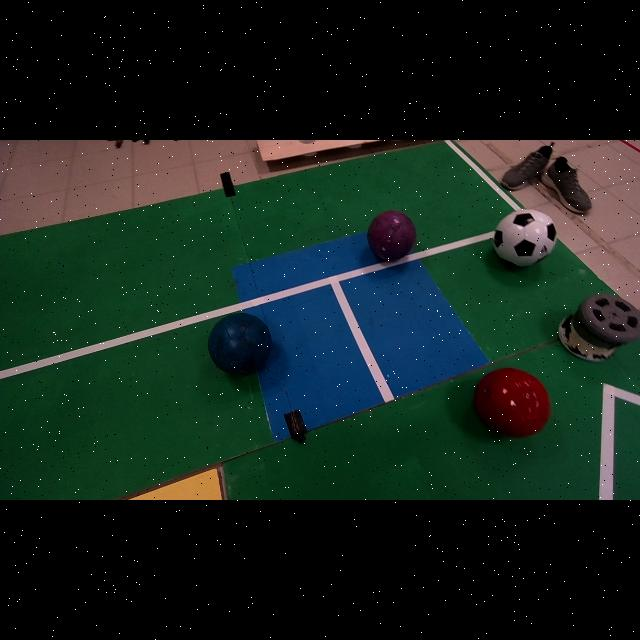B: (208, 313, 272, 375)
P: (367, 211, 417, 261)
R: (475, 367, 551, 438)
